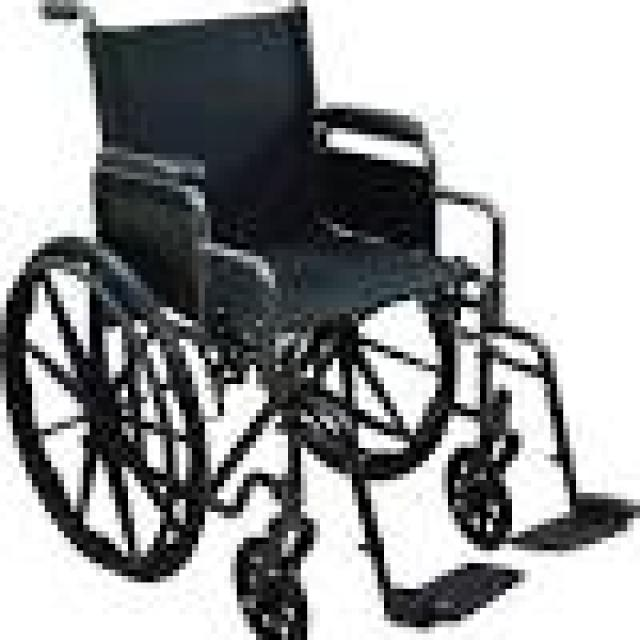wheelchairs: (26, 6, 608, 628)
